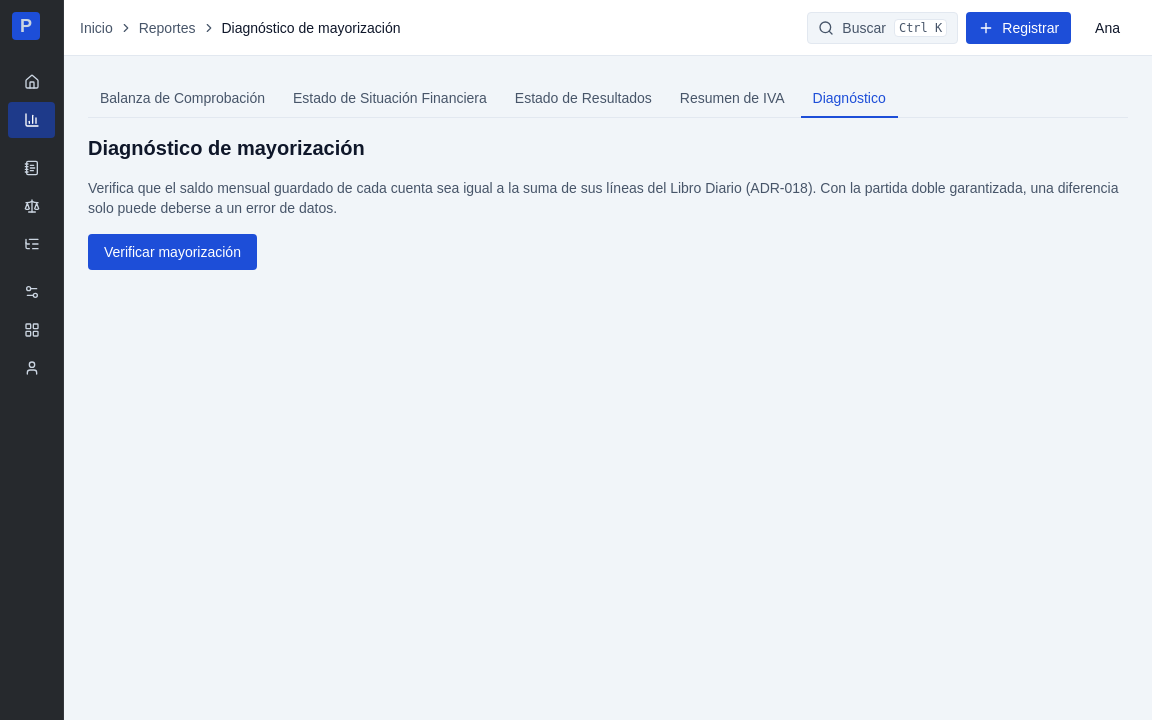
Diagnóstico de mayorización › el contador verifica la mayorización y ve "Consistente" sin diferencias
Check: the heading "Diagnóstico de mayorización" is shown, box [88,137,365,159]
Click the button "Verificar mayorización". click: (172, 252)
box: [88,234,257,270]
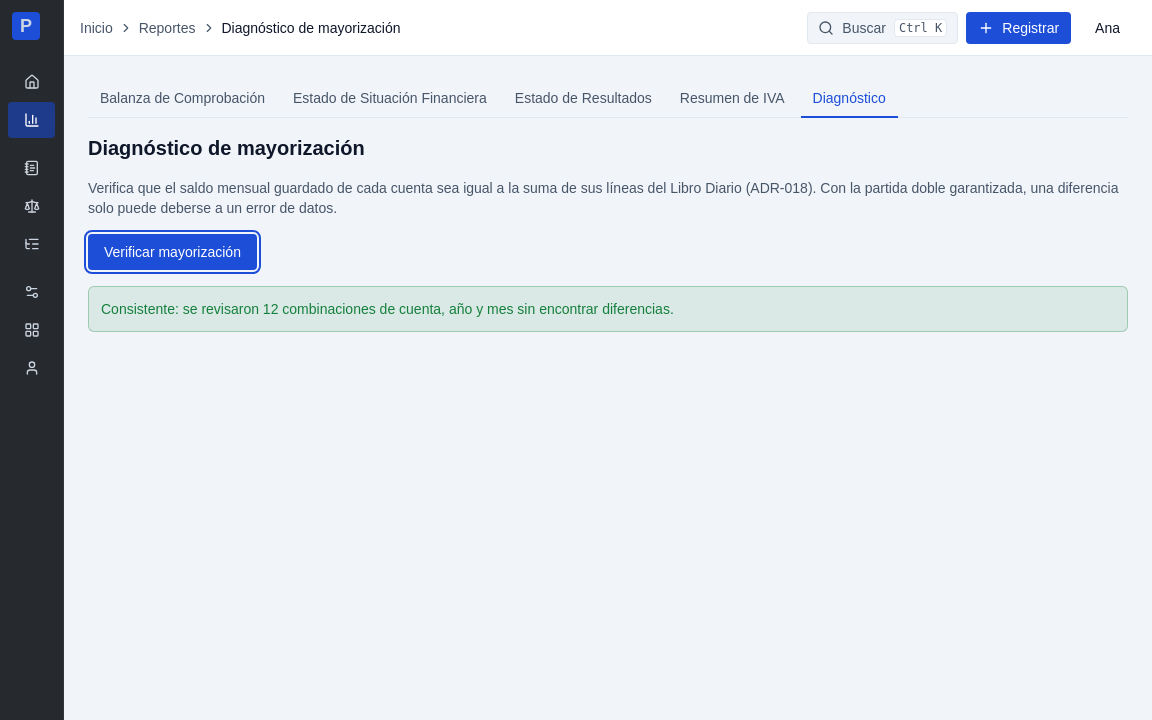
Check: the text "Consistente" is shown, box [101,301,263,317]
